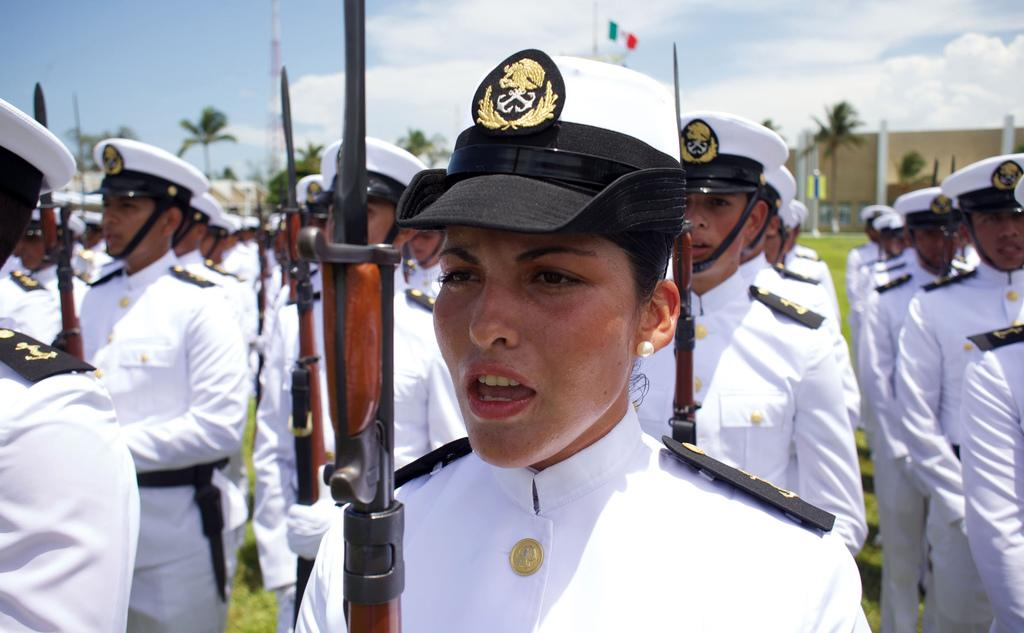Hat: (0, 42, 806, 268), (940, 153, 1024, 211), (892, 188, 960, 230), (875, 210, 905, 254), (1010, 170, 1022, 204), (858, 208, 886, 220)
